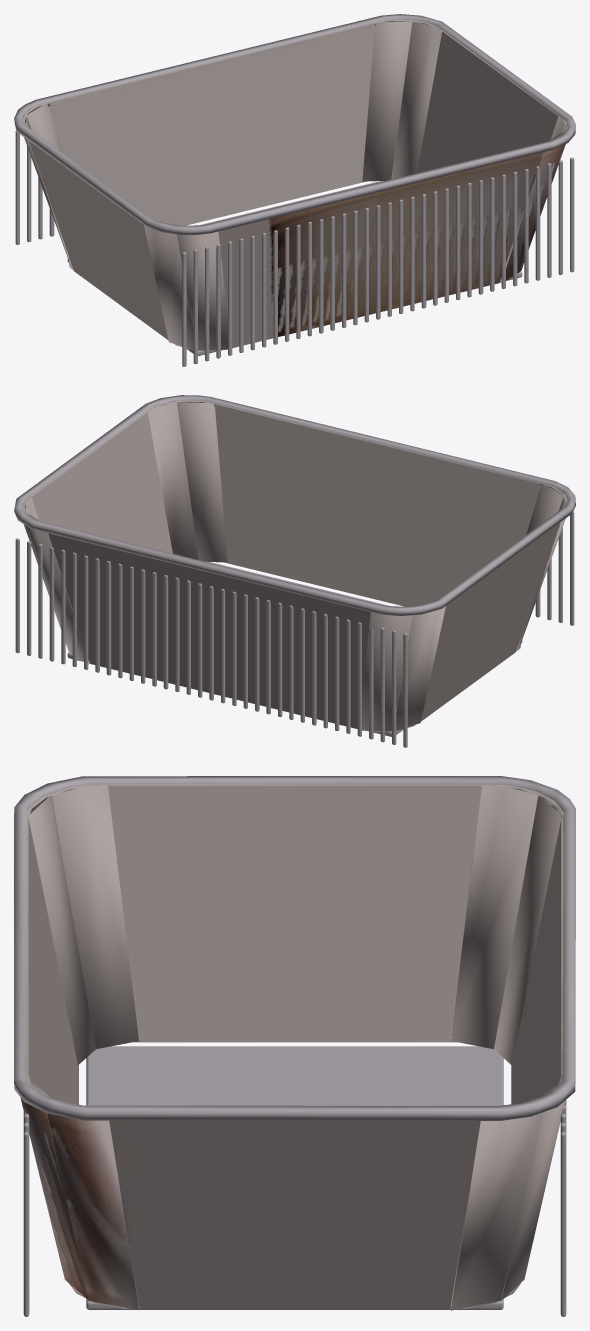
The picture shows the model from 3 angles, top to bottom: view 1: azimuth 30°, elevation 25°; view 2: azimuth 150°, elevation 25°; view 3: azimuth 270°, elevation 25°; orthographic projection. The views are drawn at different scales.
Parts seen in each view (by area): view 1: continuous rounded tapered body, rounded rolled rim, vertical molded flute.042, vertical molded flute.052, vertical molded flute.062, vertical molded flute.004, vertical molded flute.068, vertical molded flute.002, vertical molded flute.066, vertical molded flute, vertical molded flute.006, vertical molded flute.008 (+27 smaller); view 2: continuous rounded tapered body, rounded rolled rim, vertical molded flute.043, vertical molded flute.063, vertical molded flute.053, vertical molded flute.005, vertical molded flute.003, vertical molded flute.067, vertical molded flute.069, vertical molded flute.015, vertical molded flute.019, vertical molded flute.029 (+27 smaller); view 3: continuous rounded tapered body, body bottom, rounded rolled rim, vertical molded flute.068, vertical molded flute.069.
Boxes of the visible parts, x1,y1,x2,y2 form: continuous rounded tapered body: (22, 19, 567, 351); rounded rolled rim: (14, 14, 575, 234); vertical molded flute.042: (421, 194, 426, 308); vertical molded flute.052: (478, 180, 483, 294); vertical molded flute.062: (535, 166, 540, 280); vertical molded flute.004: (205, 246, 209, 361); vertical molded flute.068: (570, 157, 574, 272); vertical molded flute.002: (193, 249, 197, 363); vertical molded flute.066: (558, 160, 562, 274); vertical molded flute: (182, 252, 186, 366); vertical molded flute.006: (216, 244, 220, 358); vertical molded flute.008: (228, 241, 232, 355); continuous rounded tapered body: (22, 400, 567, 731); rounded rolled rim: (14, 395, 575, 615); vertical molded flute.043: (163, 575, 168, 689); vertical molded flute.063: (49, 547, 54, 661); vertical molded flute.053: (106, 561, 111, 675); vertical molded flute.005: (380, 627, 384, 742); vertical molded flute.003: (392, 630, 396, 744); vertical molded flute.067: (27, 541, 31, 655); vertical molded flute.069: (15, 538, 19, 653); vertical molded flute.015: (323, 613, 327, 728); vertical molded flute.019: (300, 608, 304, 722); vertical molded flute.029: (243, 594, 247, 708); continuous rounded tapered body: (20, 784, 564, 1310); body bottom: (86, 1046, 503, 1309); rounded rolled rim: (14, 776, 575, 1120); vertical molded flute.068: (23, 1131, 29, 1316); vertical molded flute.069: (560, 1131, 566, 1316).
Bounding box in the file's own units: 0.2097 × 0.0698 × 0.1486.
2 materials, 1 textured.
